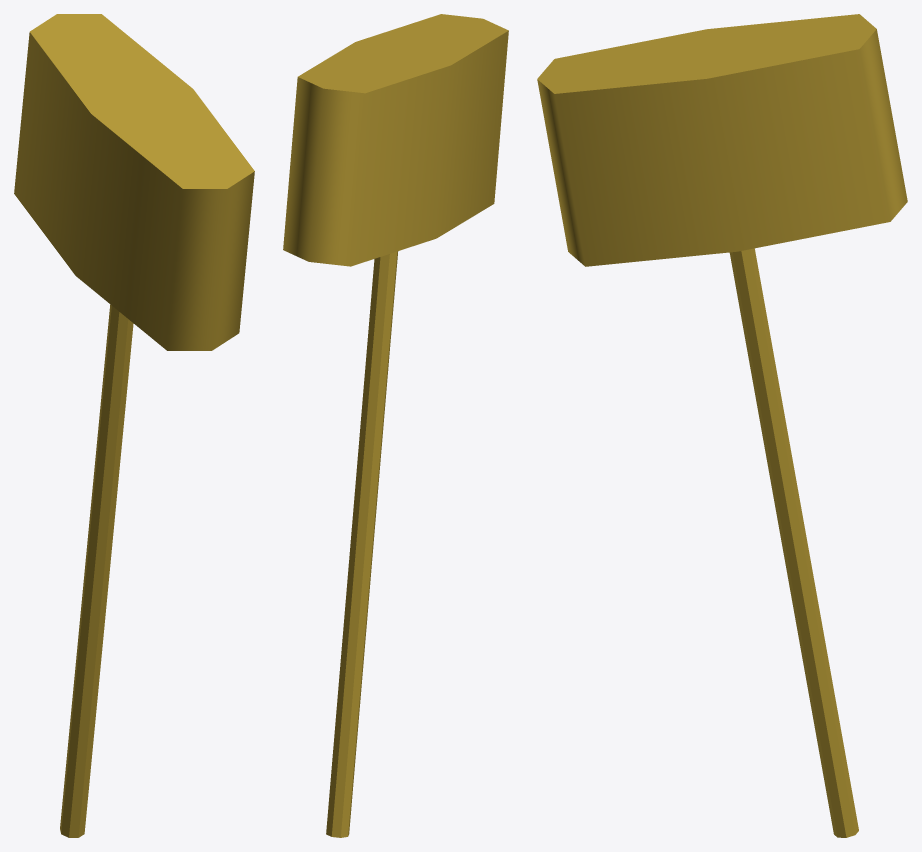
Rendered from AnimatedHammer.fbx.
The picture shows the model from 3 angles, left to right: view 1: azimuth 30°, elevation 25°; view 2: azimuth 150°, elevation 25°; view 3: azimuth 270°, elevation 25°; orthographic projection. The views are drawn at different scales.
Parts seen in each view (by area): view 1: char_hammer; view 2: char_hammer; view 3: char_hammer.
Part boxes in pixels (x1,y1,x2,y2): char_hammer: [14, 14, 254, 837]; char_hammer: [283, 14, 508, 837]; char_hammer: [537, 14, 907, 837].
Bounding box in the file's own units: 12.4 × 93.81 × 39.13.
